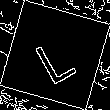L_NW: (29, 25, 81, 85)
